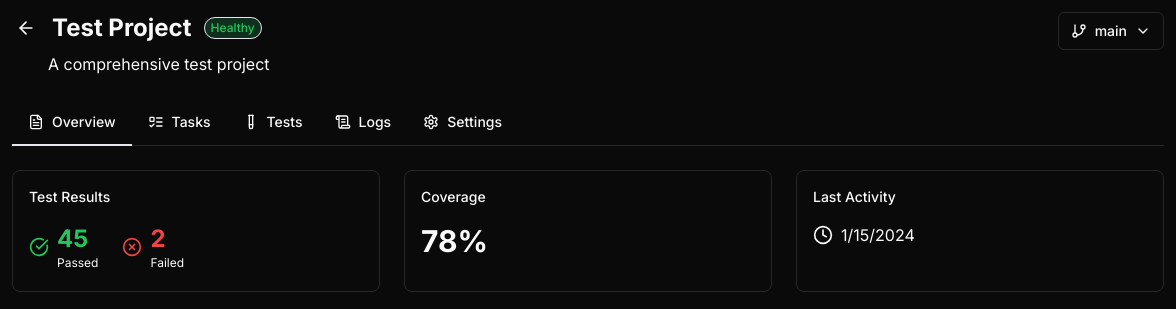
ProjectDetail › switches to logs tab
The width and height of the screenshot is (1176, 309).
Step 1. Click the tab "Logs" → click(363, 123), box [318,100,407,146]
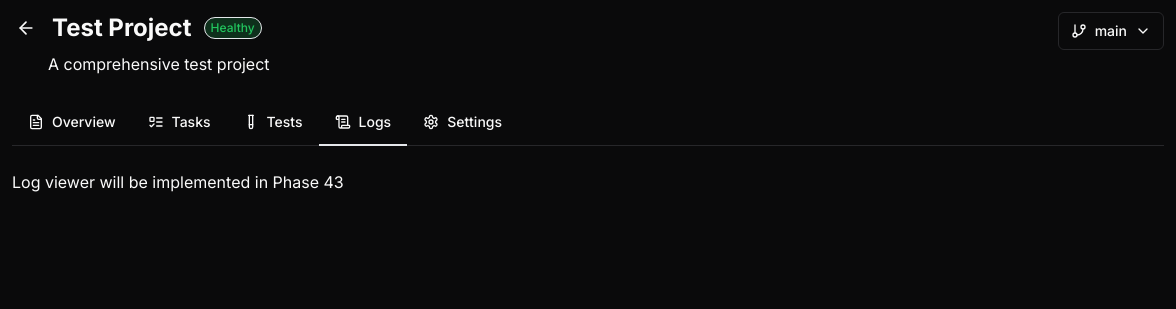
Check: the panel with test id "logs-panel" is shown, box [12,172,344,192]
